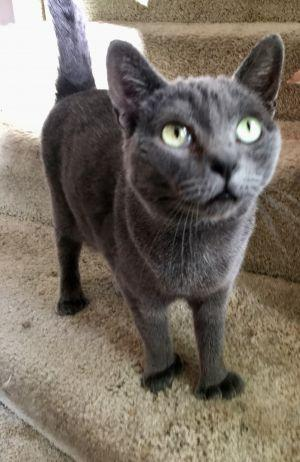rblue: (78, 18, 300, 248)
